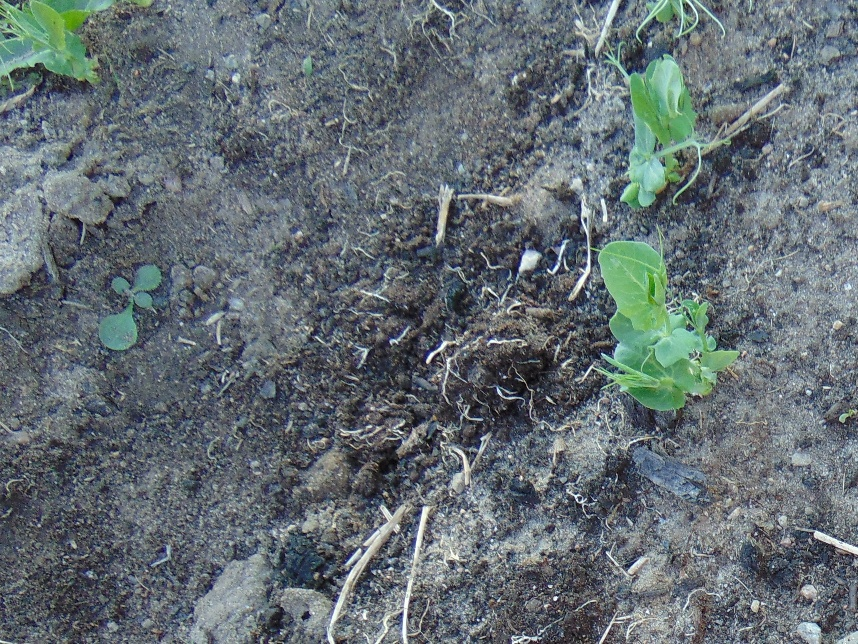crop: (592, 237, 736, 413), (610, 43, 711, 210), (1, 1, 114, 91), (637, 1, 724, 40)
weed: (97, 262, 159, 350)
